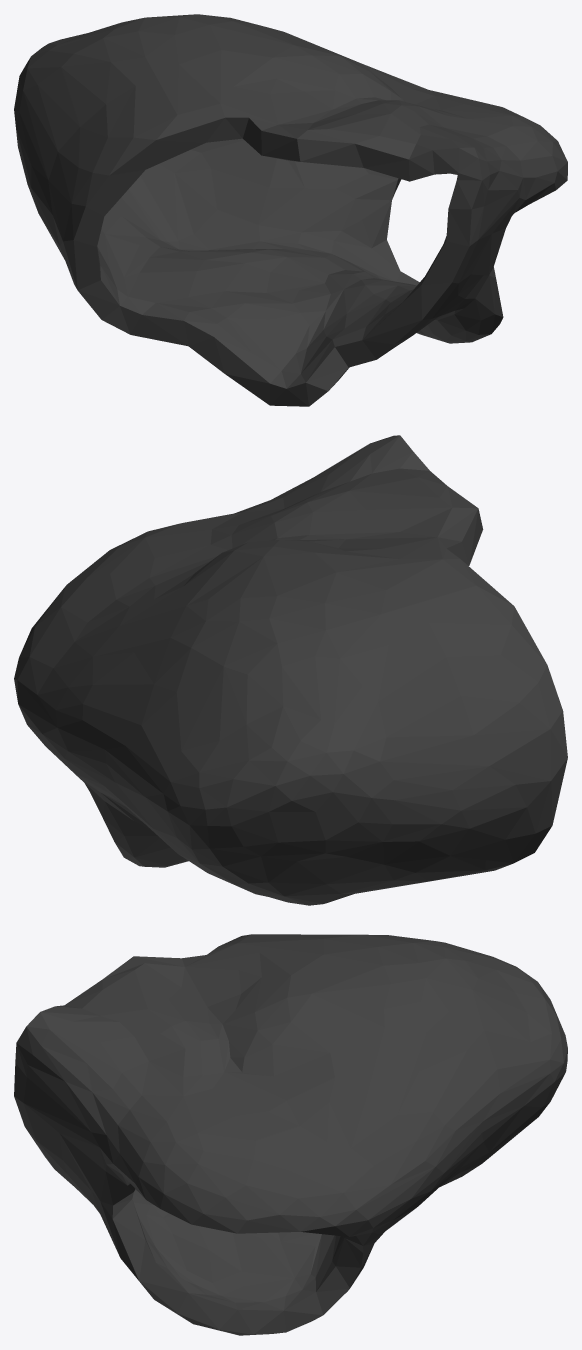
File: Tibia_lateral_malleolus.glb
3 views of the same model, one above another, from view 1: azimuth 30°, elevation 25°; view 2: azimuth 150°, elevation 25°; view 3: azimuth 270°, elevation 25° (orthographic). The views are drawn at different scales.
Visible parts, largest first — view 1: Tibia_lateral_malleolus; view 2: Tibia_lateral_malleolus; view 3: Tibia_lateral_malleolus.
Part boxes in pixels (box(x1,y1,x2,y2)): Tibia_lateral_malleolus: box(14, 14, 567, 406); Tibia_lateral_malleolus: box(14, 435, 567, 905); Tibia_lateral_malleolus: box(14, 934, 567, 1335).
Bounding box in the file's own units: 0.0196 × 0.0122 × 0.0211.
1 material, 1 textured.
